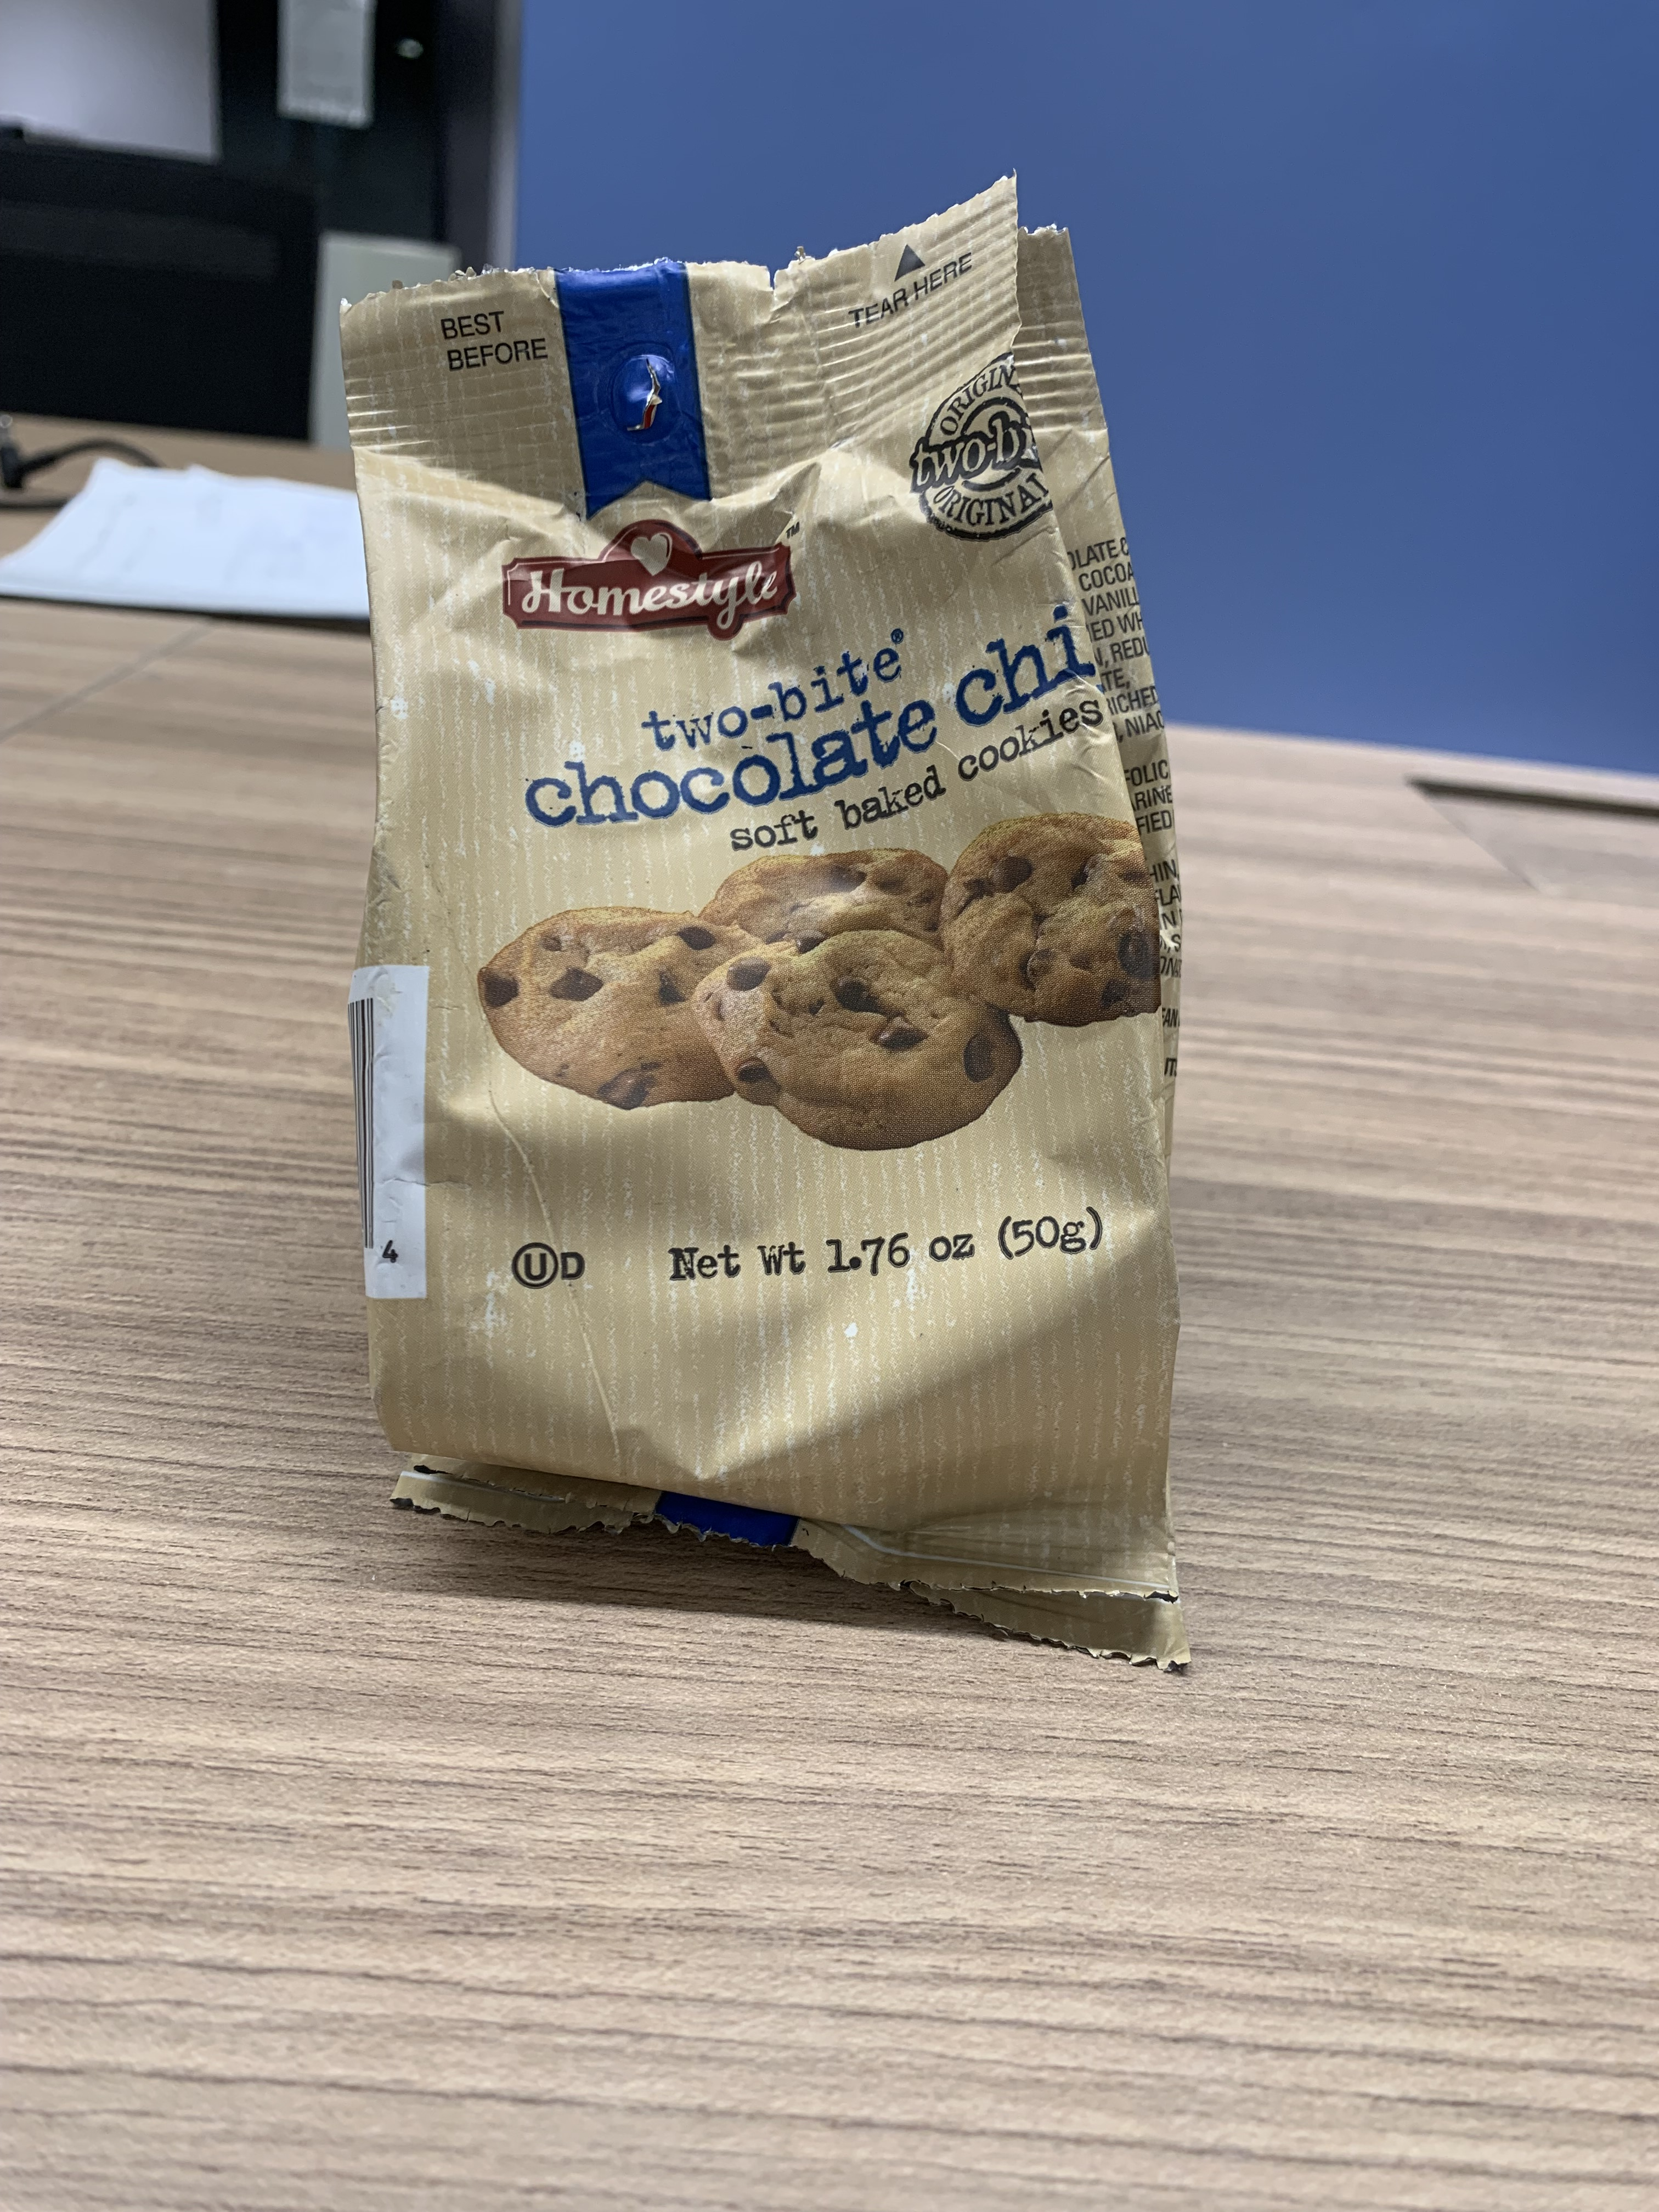cookies_1g-99g: (399, 294, 1147, 1527)
